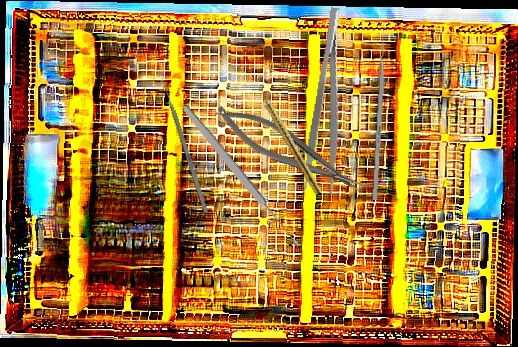Dressing Forceps: (300, 6, 360, 196)
Handpiece: (255, 86, 325, 196)
Needle Holder: (209, 93, 368, 208)
Pusher: (159, 75, 209, 214), (371, 25, 388, 201)
Surgical Spoon: (179, 102, 303, 251)
